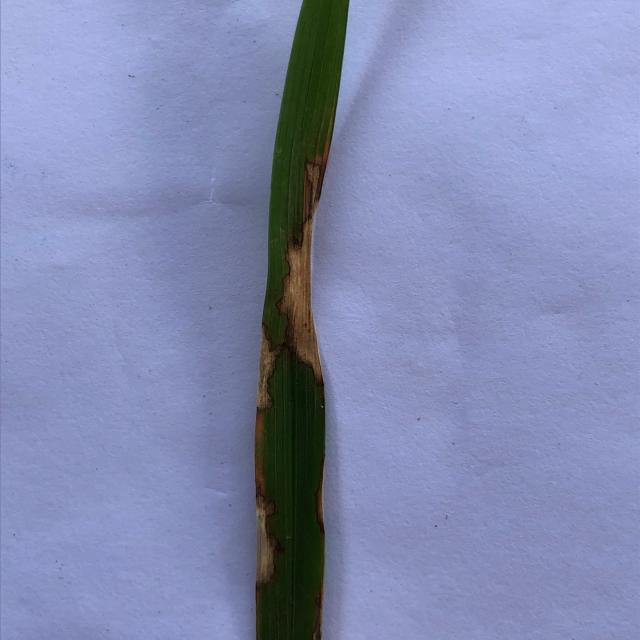Leaf Blight: (277, 141, 328, 385), (252, 323, 278, 609), (310, 583, 324, 640), (315, 473, 325, 539)
